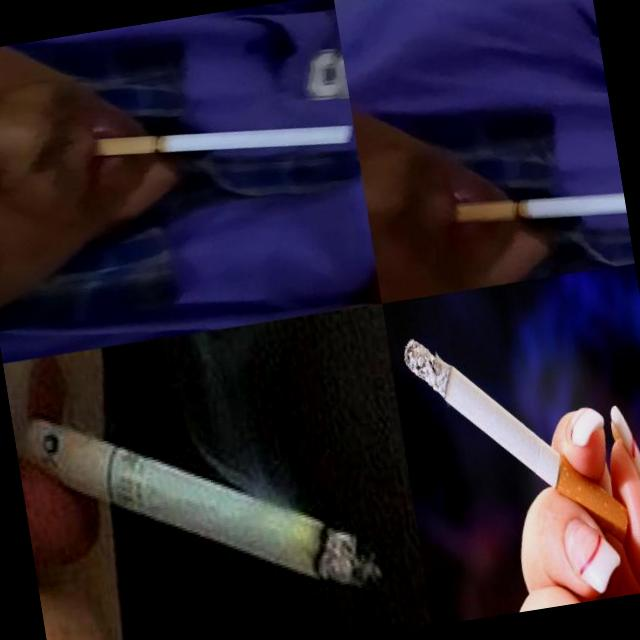cigarette: (14, 362, 385, 640), (401, 306, 634, 575), (89, 101, 356, 183), (452, 179, 628, 248)
